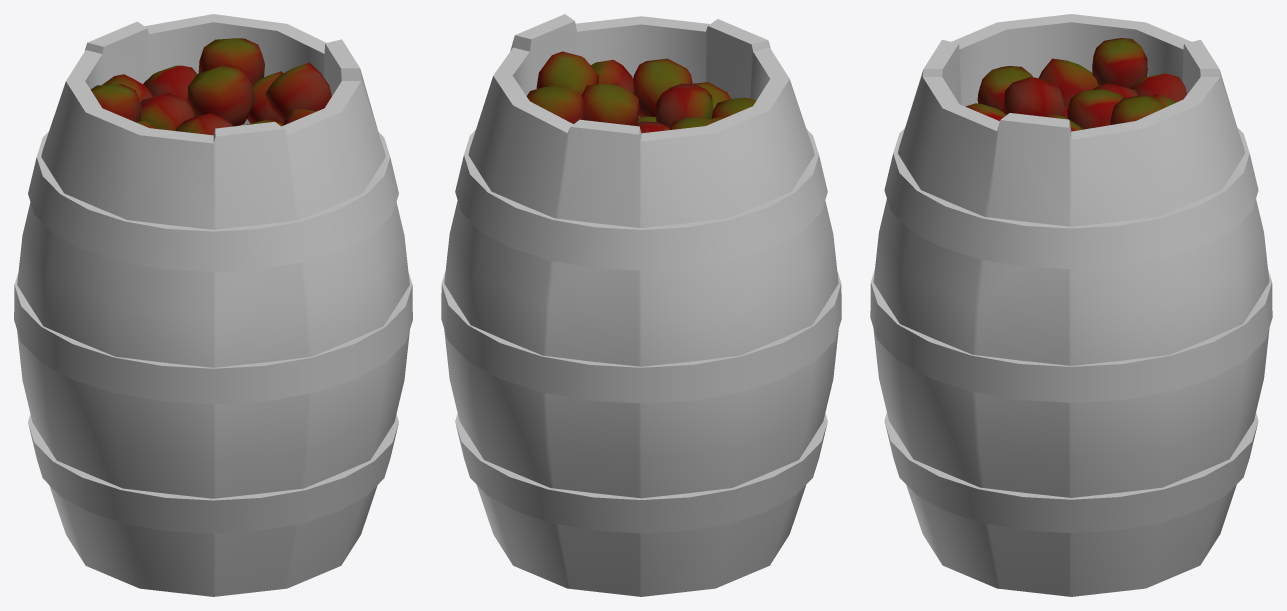
Rendered from Barrel_Apples.gltf.
3 views of the same model, side by side, from view 1: azimuth 30°, elevation 25°; view 2: azimuth 150°, elevation 25°; view 3: azimuth 270°, elevation 25° (orthographic).
Visible parts, largest first — view 1: Barrel_Apples; view 2: Barrel_Apples; view 3: Barrel_Apples.
Boxes of the visible parts, x1,y1,x2,y2 form: Barrel_Apples: (14, 14, 412, 596); Barrel_Apples: (441, 14, 841, 596); Barrel_Apples: (870, 14, 1272, 596).
Size of the model in its own units: 0.698 by 0.898 by 0.698.
